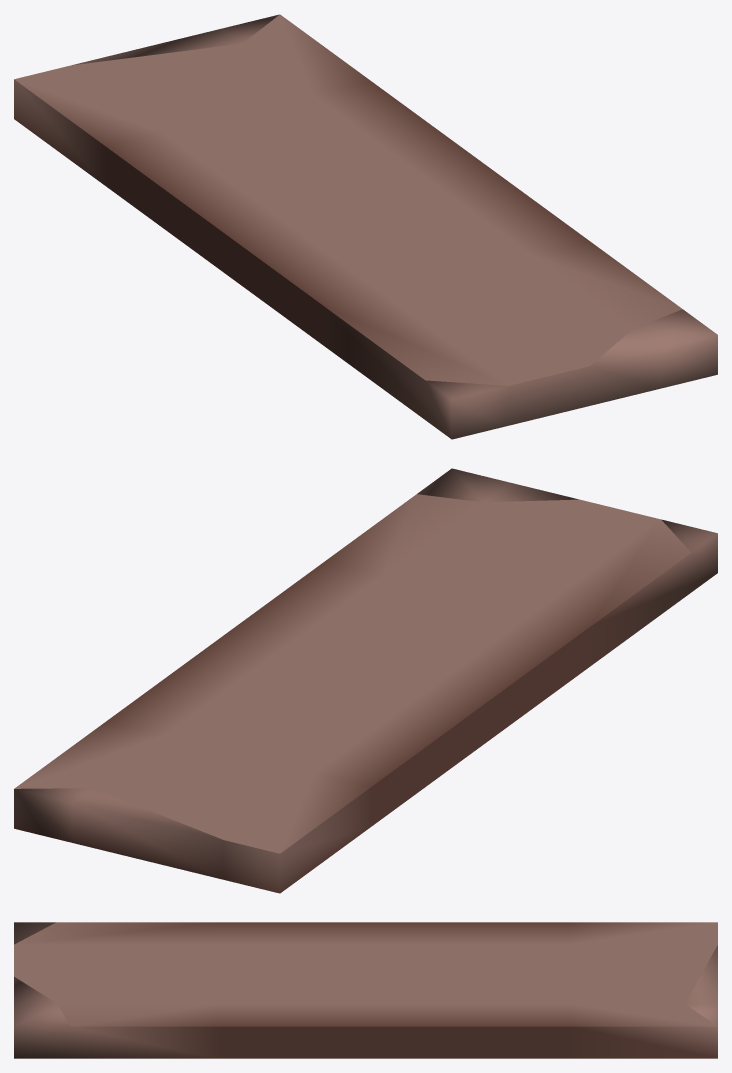
Rendered from HallPlatformLong.gltf.
The picture shows the model from 3 angles, top to bottom: view 1: azimuth 30°, elevation 25°; view 2: azimuth 150°, elevation 25°; view 3: azimuth 270°, elevation 25°; orthographic projection. The views are drawn at different scales.
Parts seen in each view (by area): view 1: HallPlatformLongMesh; view 2: HallPlatformLongMesh; view 3: HallPlatformLongMesh.
Part boxes in pixels (left/top/right/bottom): HallPlatformLongMesh: left=14, top=14, right=717, bottom=439; HallPlatformLongMesh: left=14, top=468, right=717, bottom=893; HallPlatformLongMesh: left=14, top=922, right=717, bottom=1058.
Bounding box in the file's own units: 7 × 1 × 19.95.
